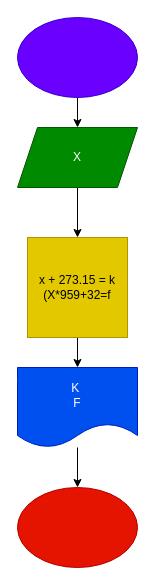
This 155x585 diagram has some shape labels left out. The shapes that lost their labels are listed below. From the top down, each one's centre as x and y in pixels, then its label:
At point (77, 57): "Inicio".
At point (77, 527): "Fin".
